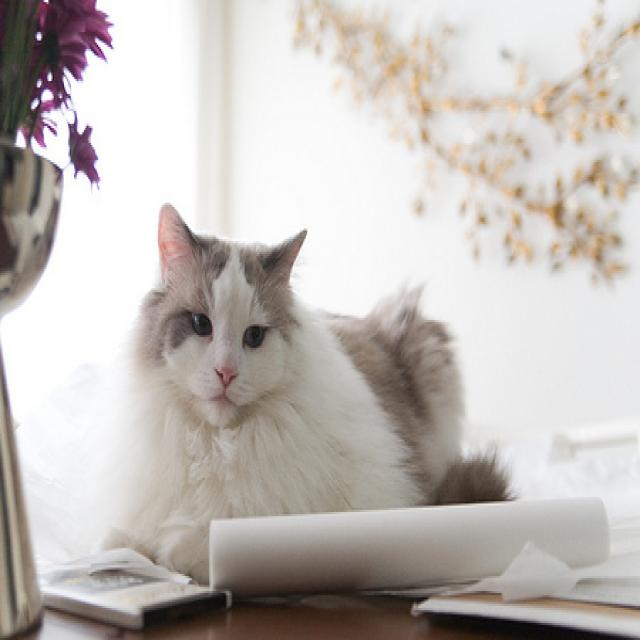Ragdoll: (98, 194, 516, 599)
